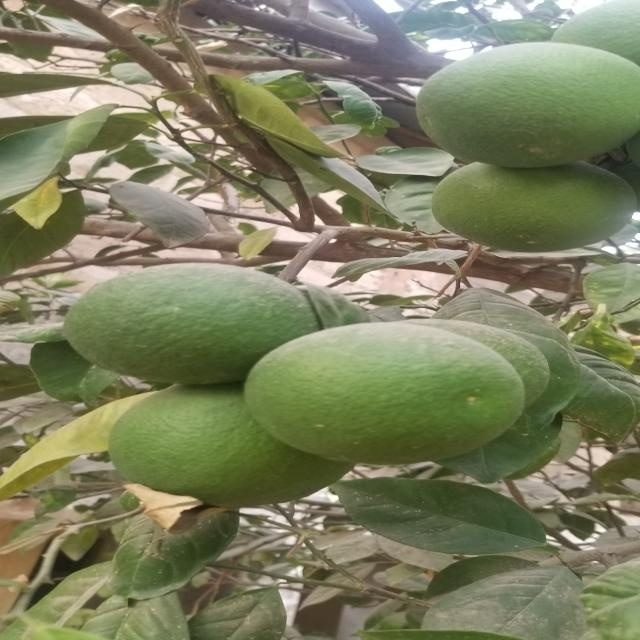agrume: (255, 319, 529, 468), (55, 262, 317, 386), (401, 39, 640, 171), (101, 389, 323, 511), (437, 160, 640, 257)
